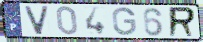0: (55, 5, 79, 36)
4: (85, 6, 108, 36)
6: (142, 7, 164, 38)
G: (111, 6, 138, 37)
R: (168, 6, 197, 38)
V: (23, 5, 50, 36)
